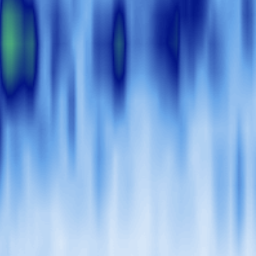defect: (1, 1, 39, 120), (154, 1, 207, 85), (100, 1, 129, 105)
